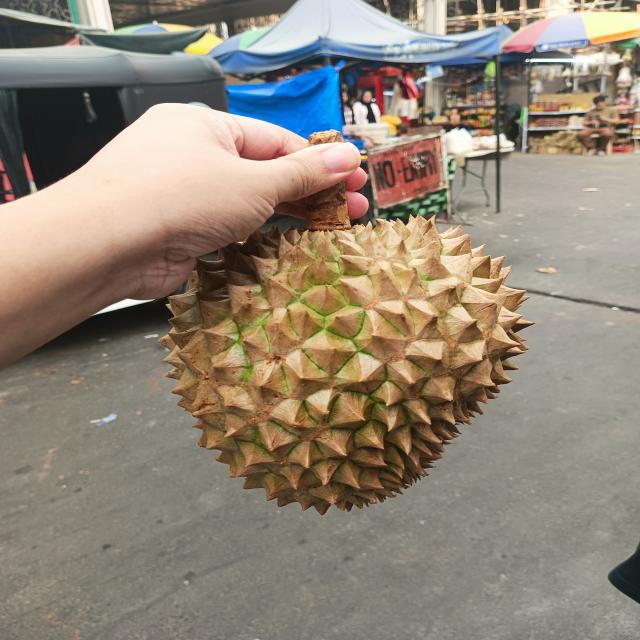mature: (159, 213, 533, 513)
